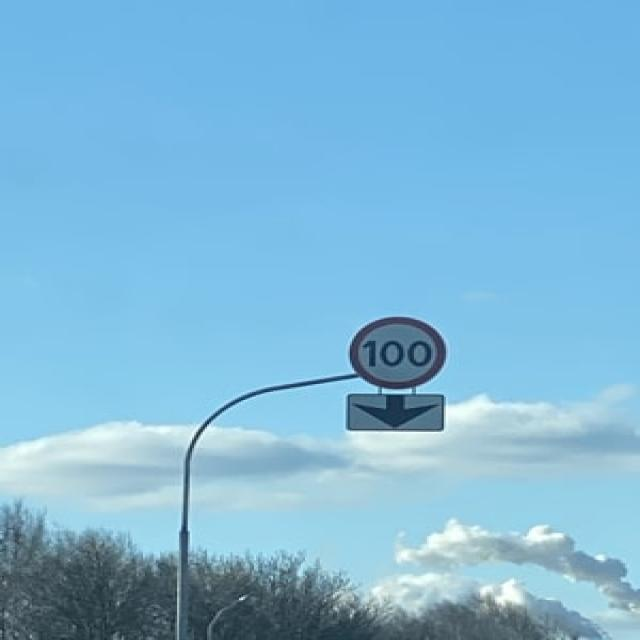Speed Limit -100-: (364, 331, 436, 373)
